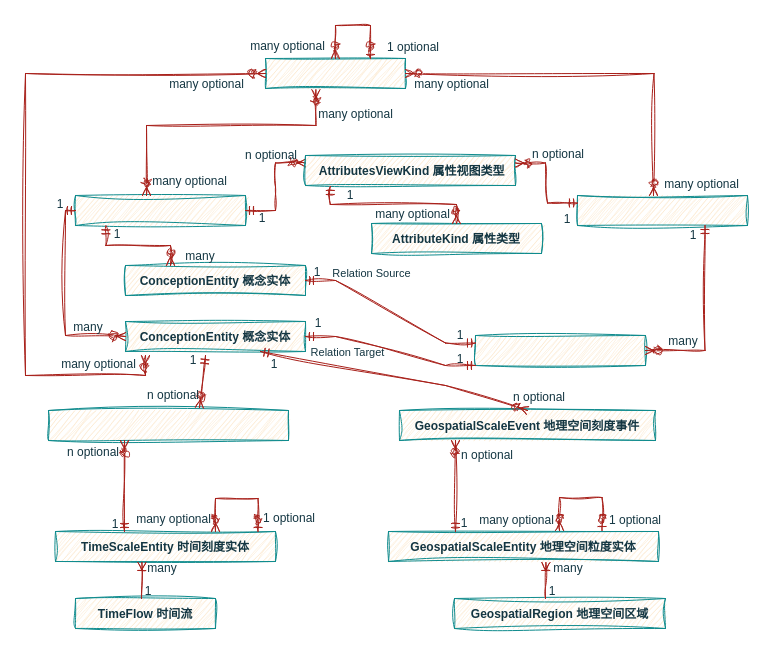
Image size: 765x646. Some labels were removed from this diagram. Here are the shapes that lost their labels. From the top down, the box of each, then its label:
(264, 58, 406, 88): Classification分类
(74, 194, 246, 226): ConceptionKind 概念类型
(576, 194, 748, 226): RelationKind 关系类型
(474, 334, 646, 366): RelationEntity 关系实体
(48, 410, 288, 440): TimeScaleEvent 时间刻度事件
